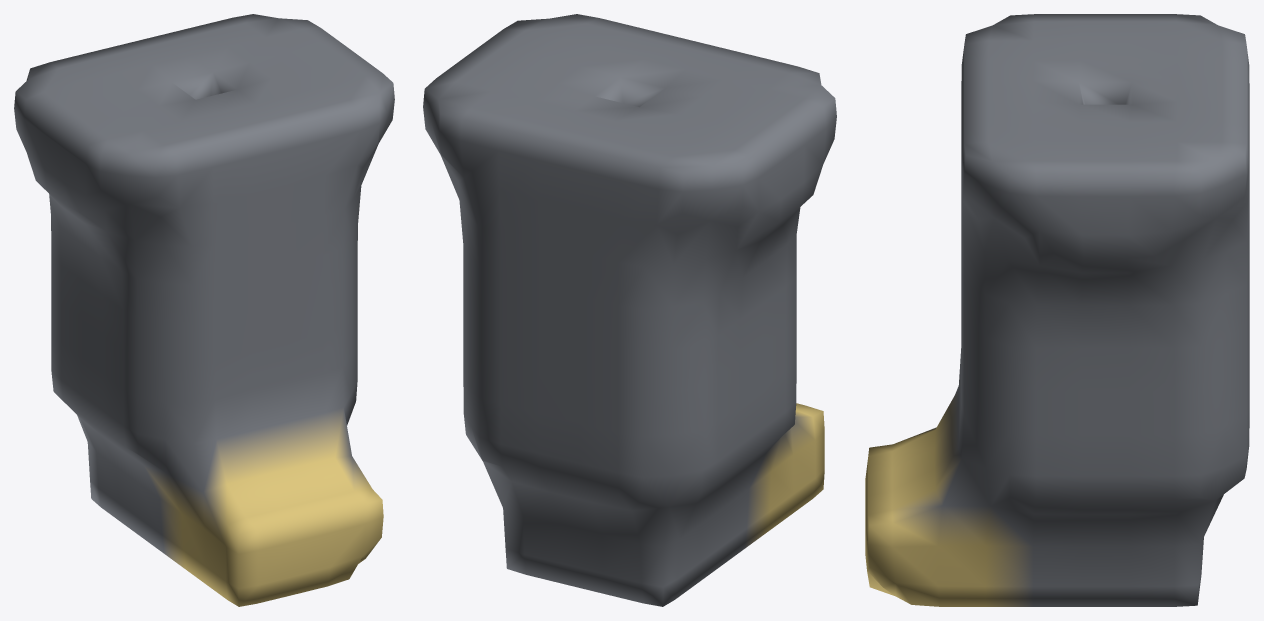
The model's file is plate_epic_glove_L_lod1.glb.
3 views of the same model, side by side, from view 1: azimuth 30°, elevation 25°; view 2: azimuth 150°, elevation 25°; view 3: azimuth 270°, elevation 25° (orthographic). The views are drawn at different scales.
Parts seen in each view (by area): view 1: plate_epic_glove_L_lod1; view 2: plate_epic_glove_L_lod1; view 3: plate_epic_glove_L_lod1.
Part boxes in pixels (<box>): plate_epic_glove_L_lod1: <box>14,14,394,606</box>; plate_epic_glove_L_lod1: <box>423,14,836,606</box>; plate_epic_glove_L_lod1: <box>865,14,1249,606</box>.
Size of the model in its own units: 0.1919 by 0.264 by 0.192.
